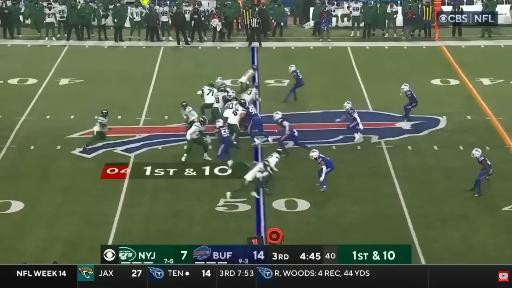Helmet: (309, 149, 319, 159), (199, 116, 208, 126), (472, 148, 481, 157), (273, 112, 282, 120), (401, 84, 409, 92), (239, 100, 247, 108), (180, 101, 188, 109), (216, 119, 223, 127), (228, 91, 236, 98), (344, 102, 351, 109), (289, 65, 296, 72), (218, 87, 226, 93), (264, 160, 269, 169), (276, 147, 282, 154), (252, 64, 258, 71), (217, 78, 223, 85), (252, 83, 259, 89), (196, 1, 202, 7), (101, 109, 107, 115), (207, 82, 214, 87)
Jersey: (277, 118, 298, 142), (244, 163, 269, 182), (228, 104, 245, 124), (187, 123, 205, 139), (216, 125, 231, 144), (316, 154, 334, 169), (277, 118, 294, 133), (242, 88, 259, 103), (202, 86, 217, 103), (266, 153, 280, 171), (347, 108, 359, 127), (477, 155, 491, 171), (182, 107, 198, 121), (129, 7, 145, 21), (223, 101, 237, 117), (246, 105, 260, 120), (94, 116, 107, 132), (214, 93, 226, 110), (405, 89, 418, 104), (55, 5, 66, 20), (292, 70, 303, 85), (44, 9, 56, 22), (158, 7, 169, 21), (351, 2, 362, 16), (183, 6, 193, 20), (198, 6, 207, 20), (226, 88, 235, 94)
Player: (226, 160, 273, 199), (273, 112, 310, 155), (182, 117, 211, 161), (468, 148, 492, 196), (246, 104, 272, 145), (83, 110, 108, 150), (310, 150, 334, 191), (227, 100, 247, 146), (263, 148, 282, 194), (216, 120, 233, 166), (283, 65, 304, 102), (344, 102, 363, 141), (157, 0, 173, 41), (197, 83, 217, 115), (129, 2, 145, 40), (401, 84, 417, 121), (211, 88, 227, 122), (180, 102, 198, 128), (239, 66, 256, 93), (350, 0, 362, 37), (182, 0, 193, 40), (196, 1, 207, 40), (223, 92, 237, 122), (56, 0, 67, 37), (266, 148, 282, 173), (242, 85, 260, 103), (216, 77, 235, 94), (328, 0, 339, 25), (216, 77, 226, 88)
